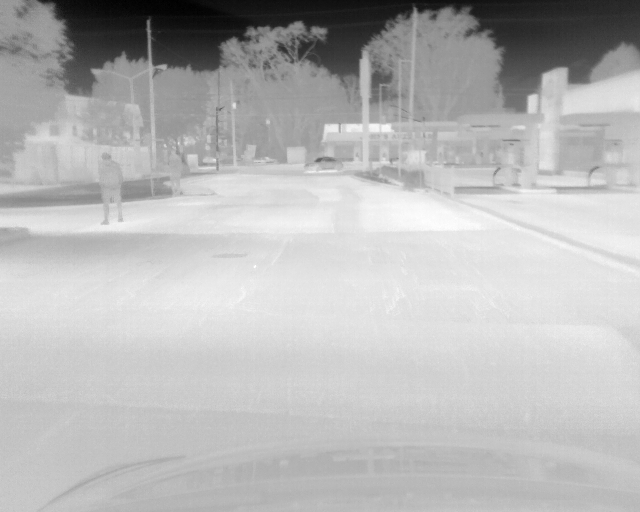car: (304, 156, 343, 173), (252, 155, 277, 165)
people: (97, 153, 127, 226), (164, 148, 186, 198)
